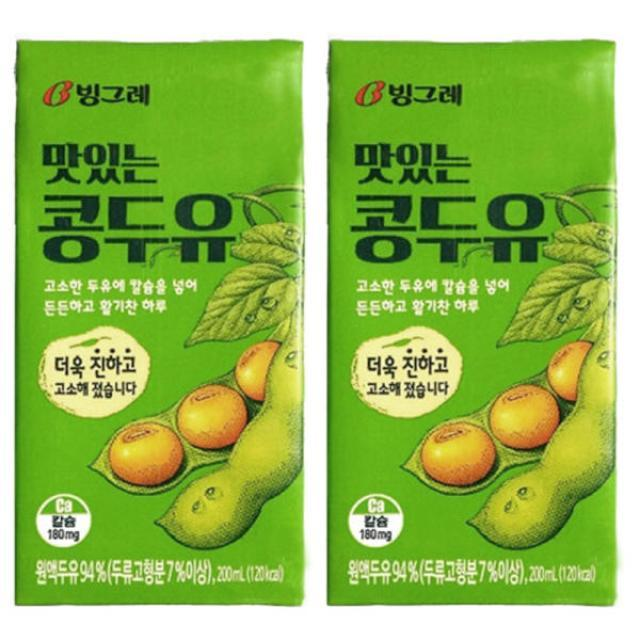Tetra: (318, 12, 627, 615), (7, 25, 320, 618)
